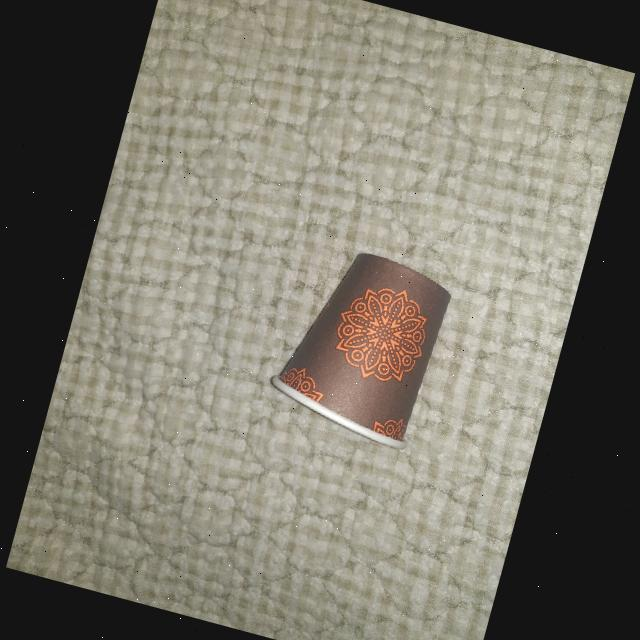trash: (253, 222, 477, 463)
